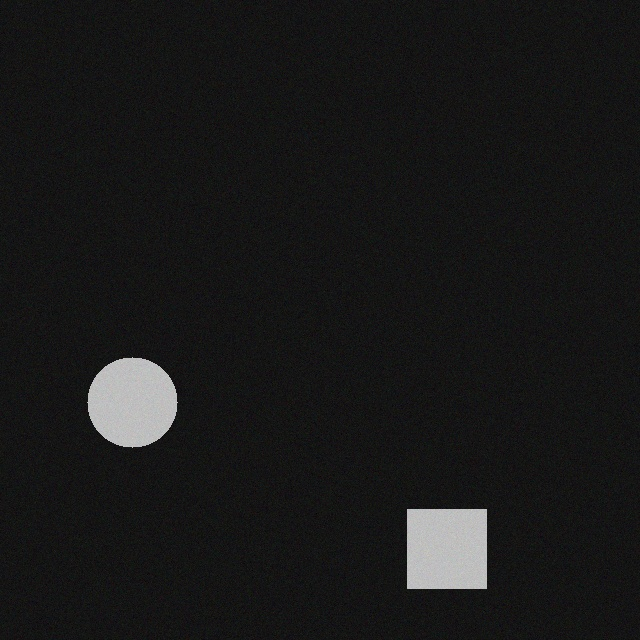circle: (86, 362, 176, 452)
square: (406, 514, 485, 593)
